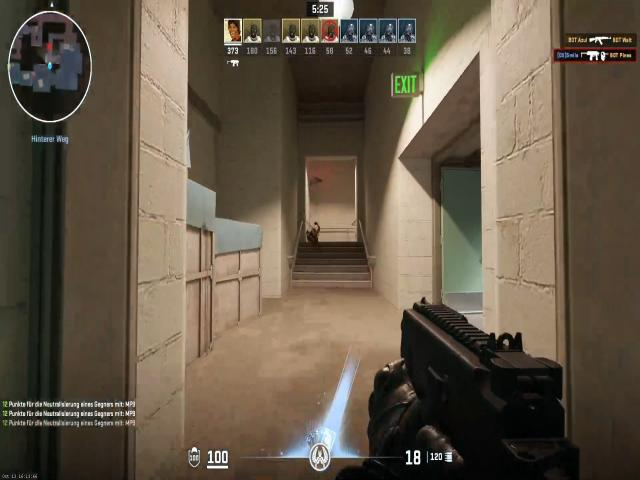Dead: (305, 217, 324, 241)
